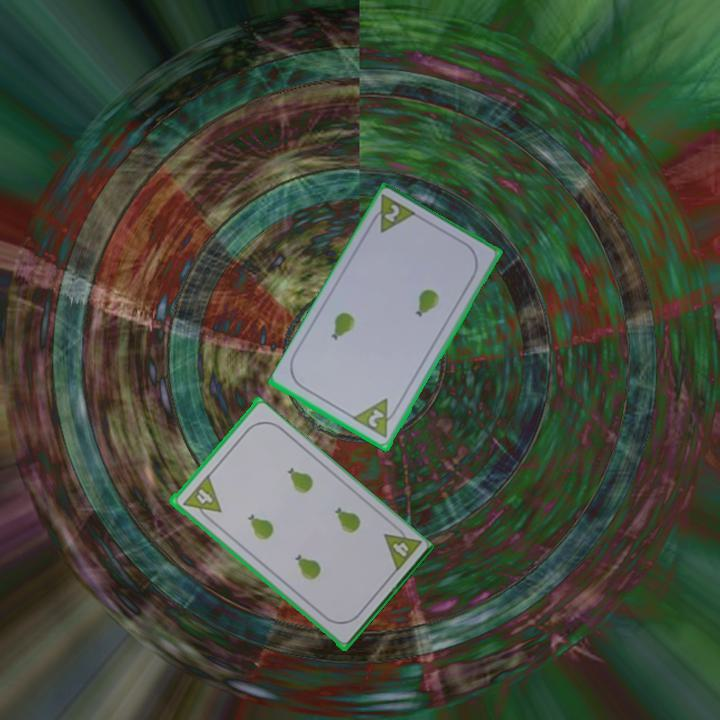2p: (365, 192, 420, 237), (364, 406, 387, 431)
4p: (190, 474, 224, 513), (388, 538, 411, 560)
